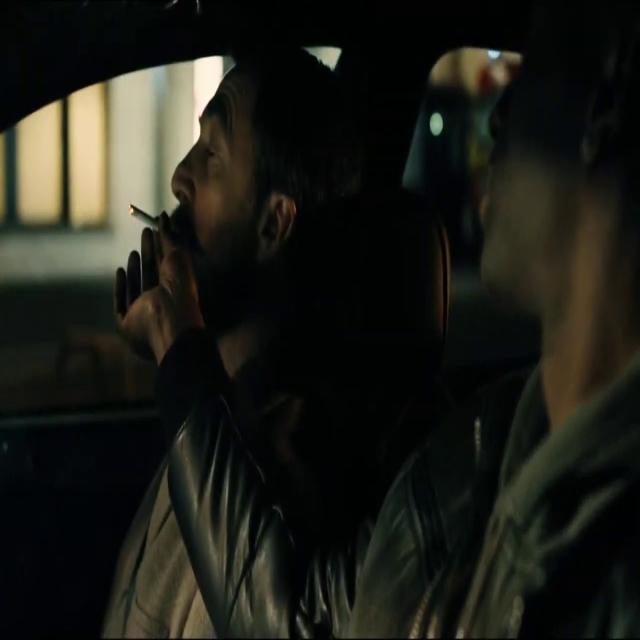Smooking: (116, 188, 170, 234)
